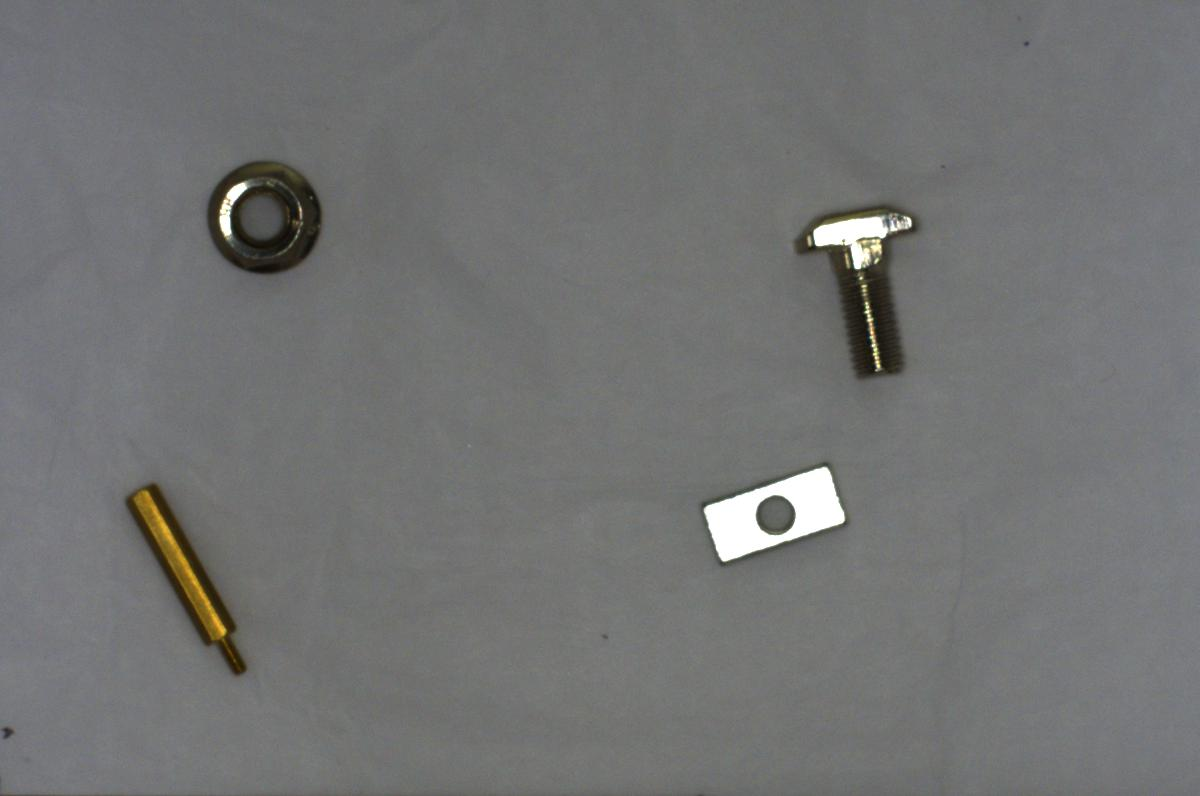Flange nut: (195, 156, 328, 281)
Hexagon pillar: (125, 476, 252, 688)
Rectangular nut: (688, 452, 857, 567)
T-shaped screw: (792, 200, 926, 388)
